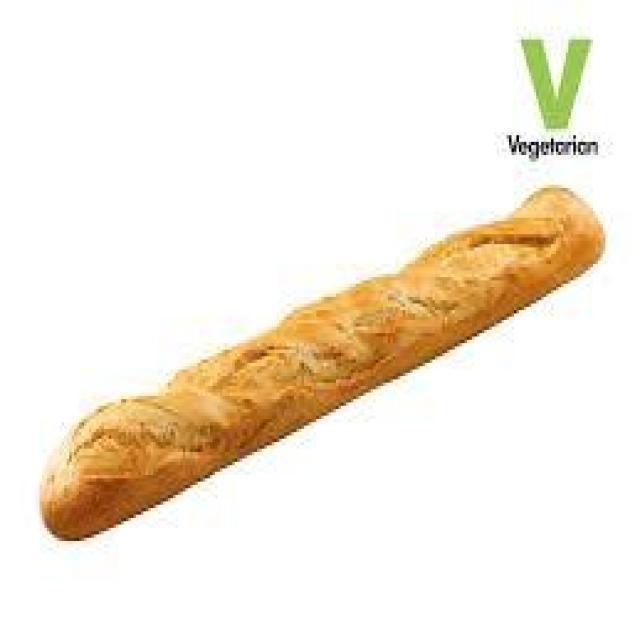Bread: (34, 170, 608, 543)
